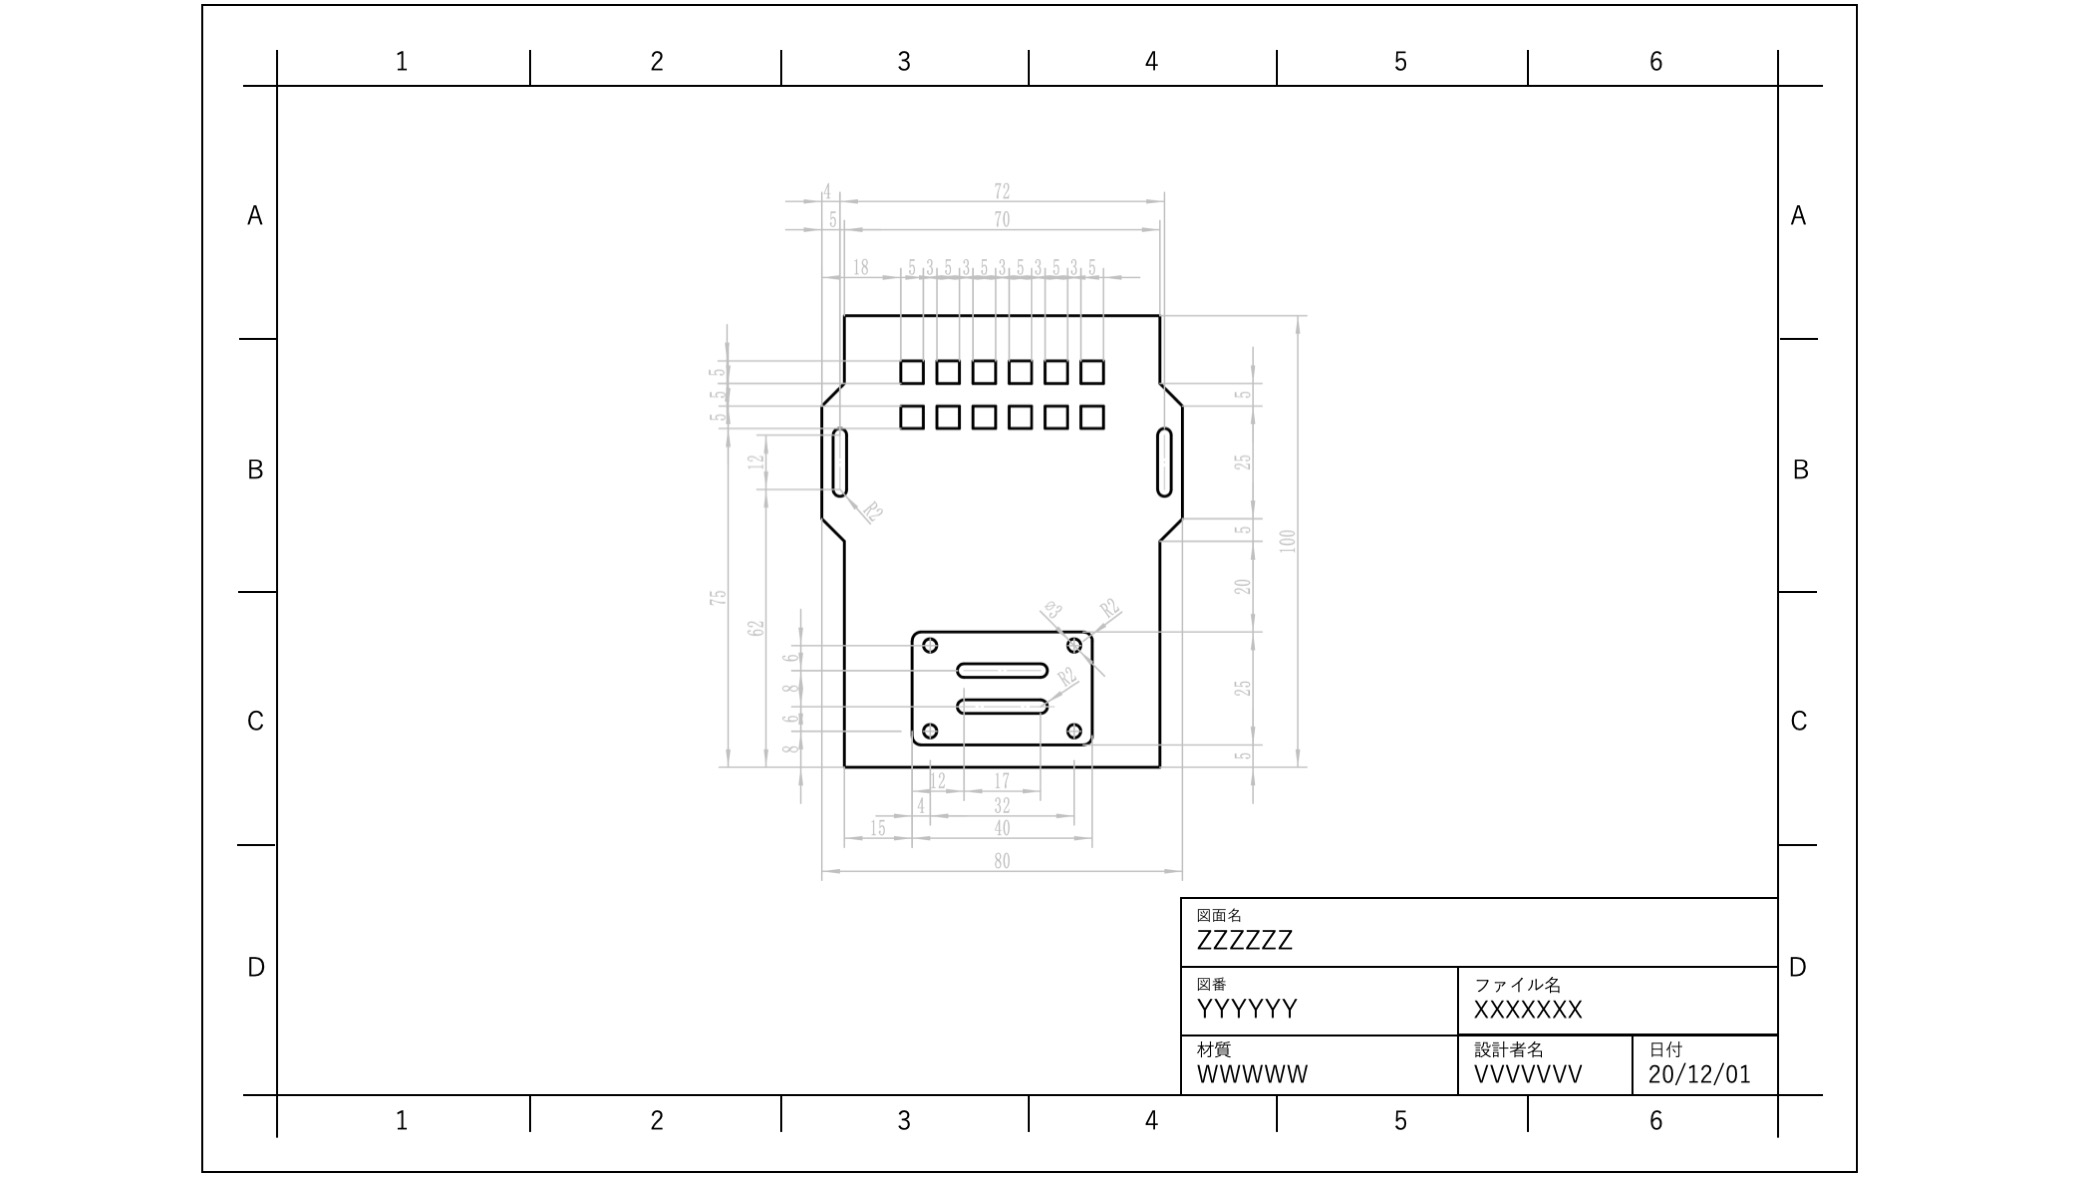circle: (919, 634, 943, 656), (1063, 720, 1085, 740), (920, 720, 940, 740), (1063, 634, 1082, 655)
rectangle: (1004, 353, 1036, 386), (1040, 399, 1072, 433), (1076, 399, 1108, 433), (932, 397, 962, 431), (896, 355, 927, 386), (1075, 356, 1108, 386), (1002, 399, 1033, 433), (933, 352, 961, 386), (897, 399, 925, 433), (1041, 353, 1067, 386), (971, 399, 997, 433), (969, 358, 997, 386)
round_rectangle: (952, 691, 1050, 717), (953, 658, 1050, 681), (1152, 423, 1175, 497), (829, 423, 850, 500)
